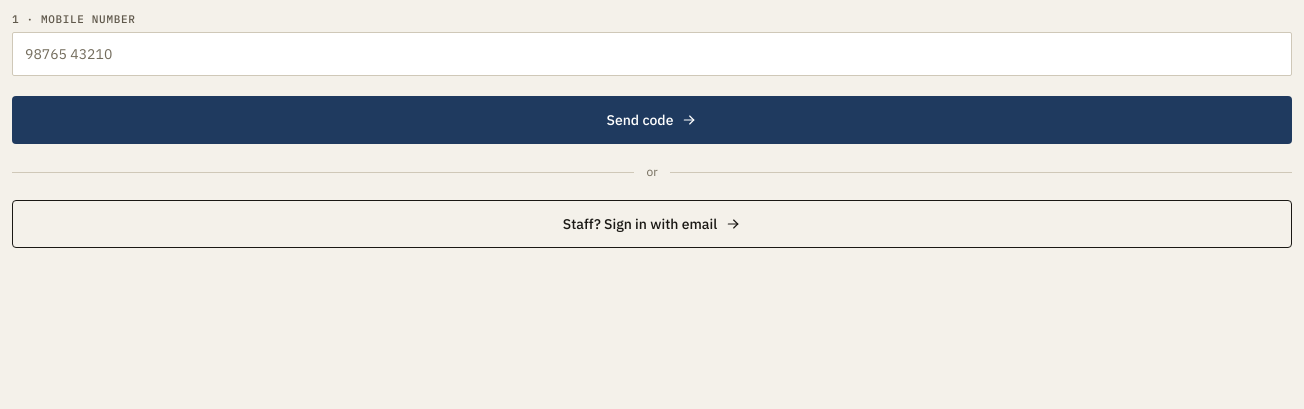
Test case: SignUpForm › asks for a new code when the number changes
The image size is (1304, 409).
Type "9876500417" into the field labelled "1 · Mobile number" at x=652, y=54, box 25,44 -> 1279,64
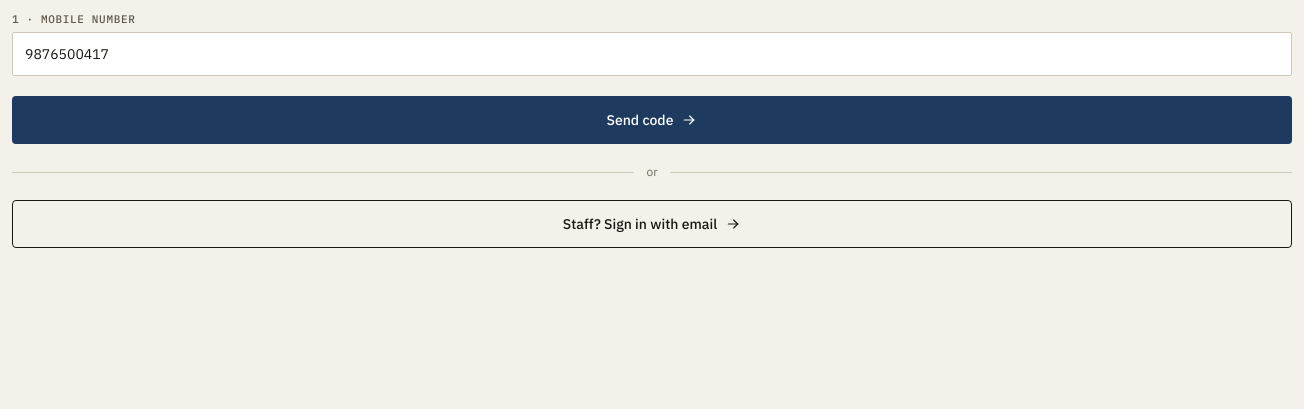
Click the button "Send code" at x=652, y=120, box 12,96 -> 1292,144
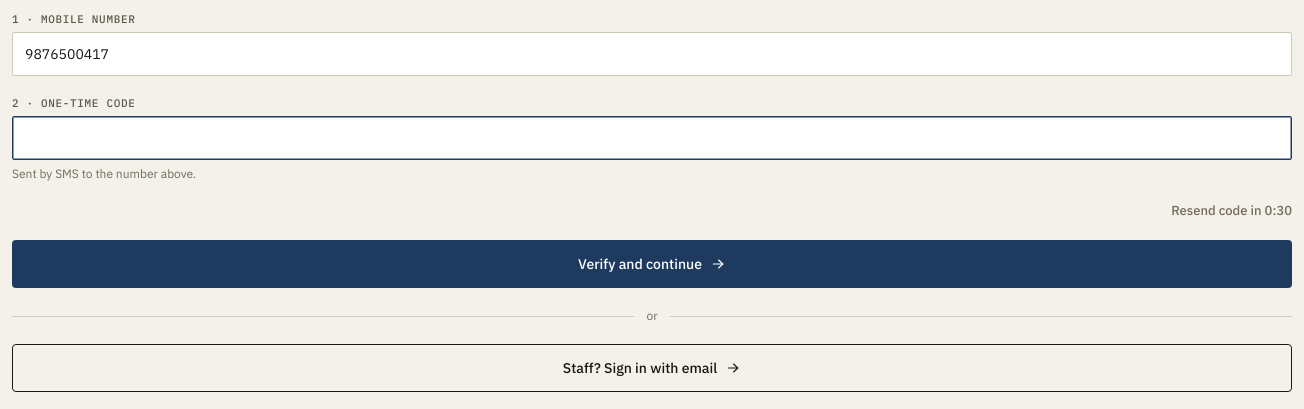
Replace the text in the field labelled "1 · Mobile number" with "9876500418" at x=652, y=54, box 25,44 -> 1279,64
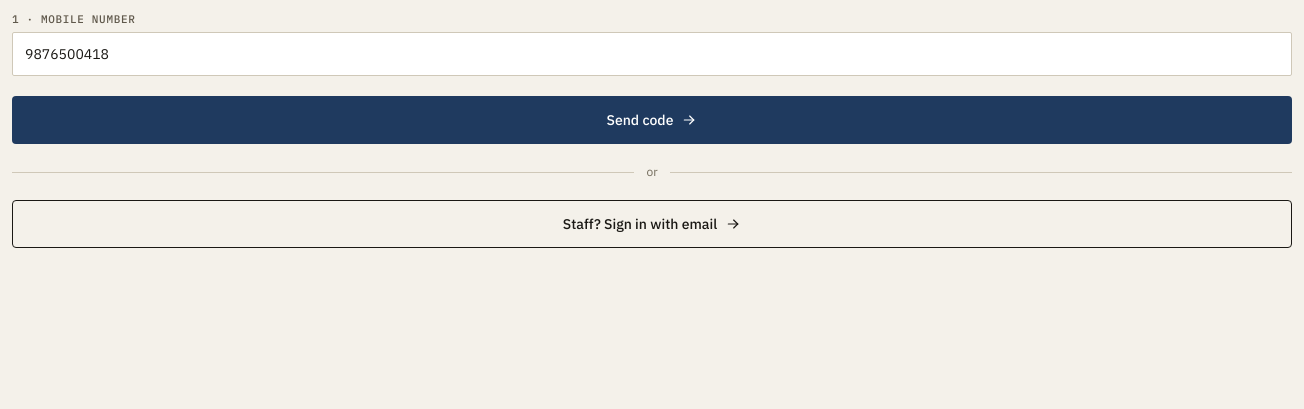
expect the label labelled "2 · One-time code" is gone: met
